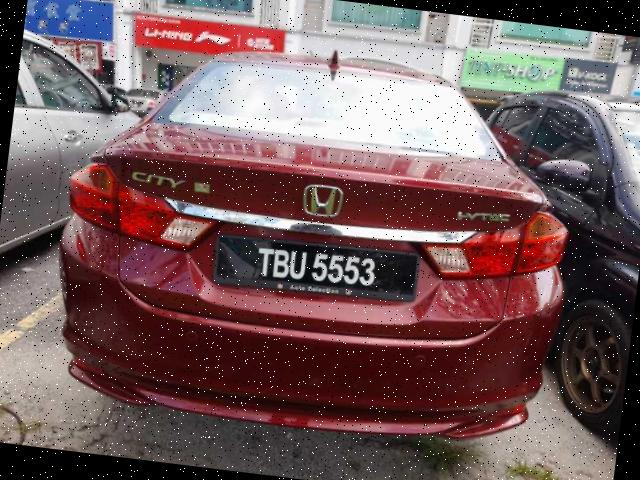License_Plate: (211, 227, 423, 309)
car: (40, 21, 594, 460)
